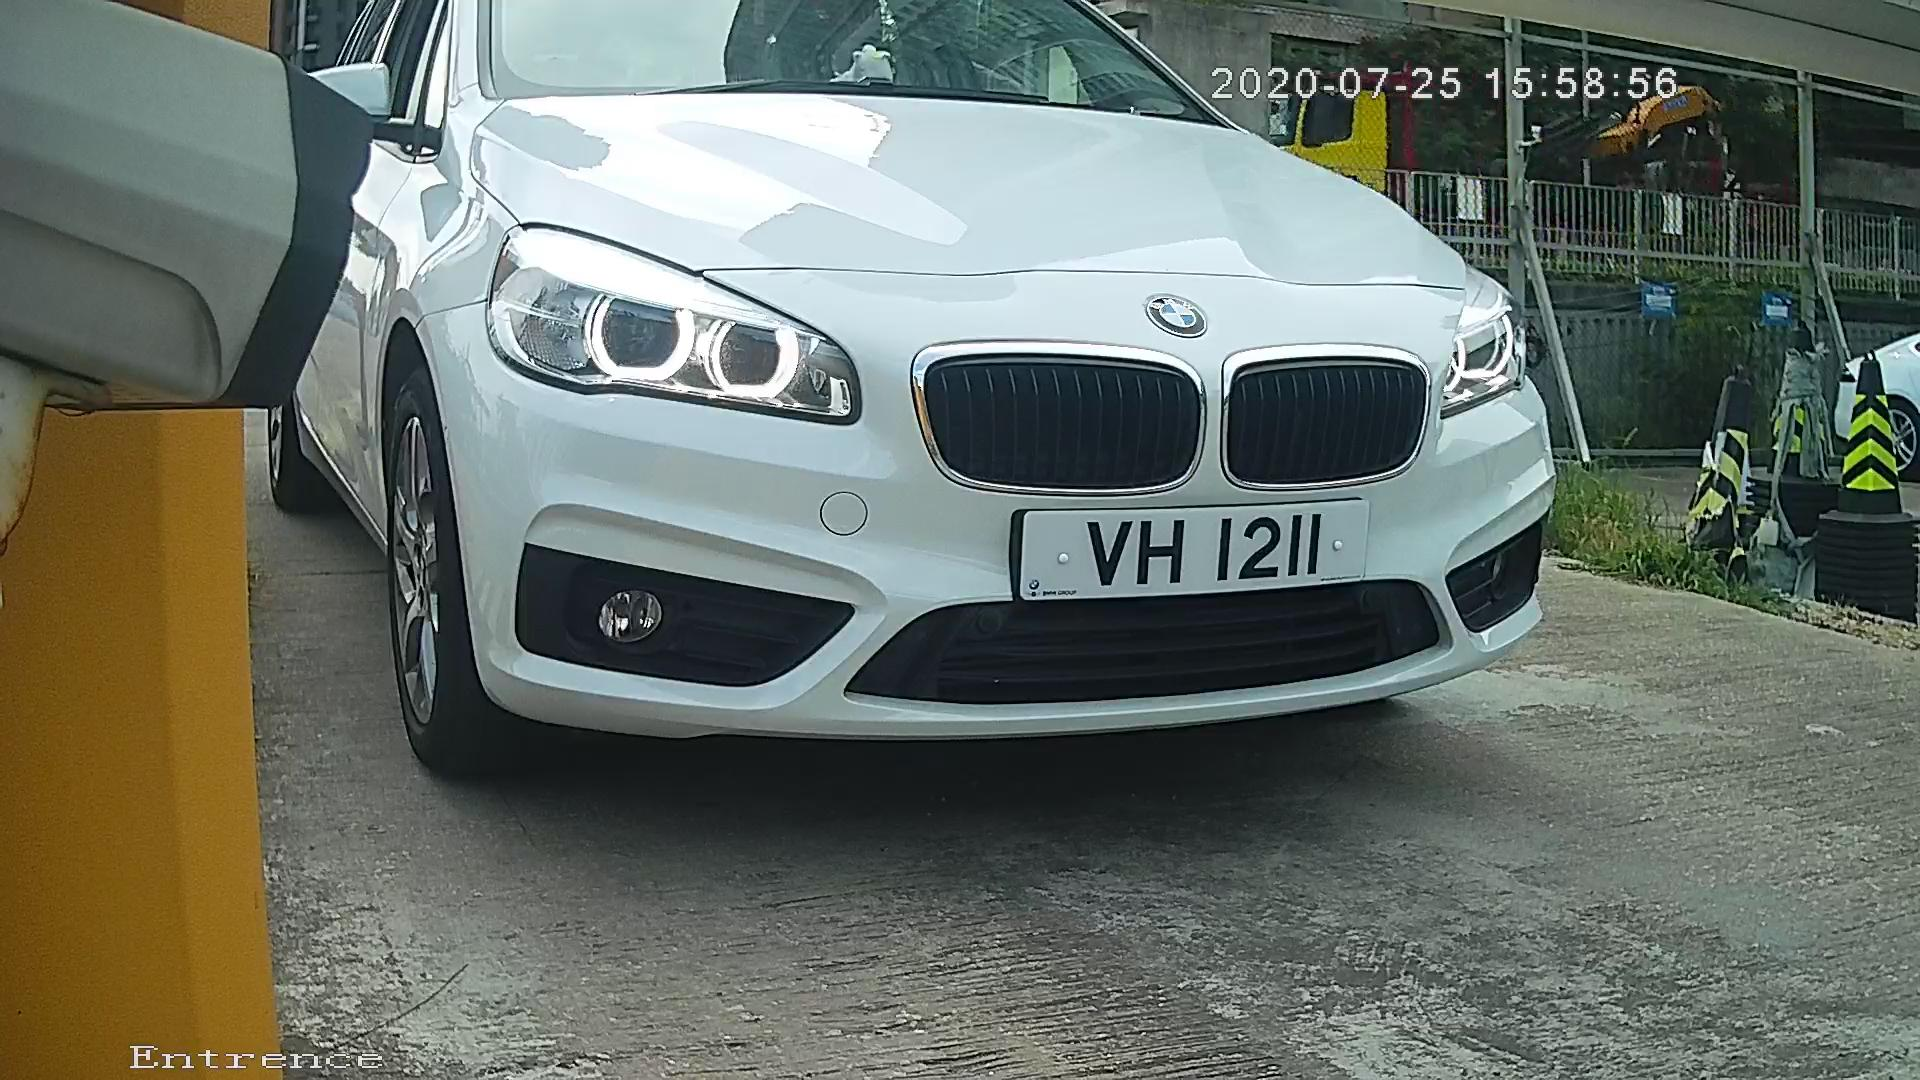Car: (181, 1, 1681, 844)
License Plate: (995, 487, 1381, 618)
